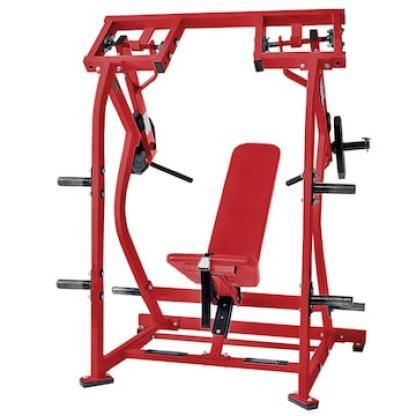shoulder press machine: (58, 12, 367, 411)
